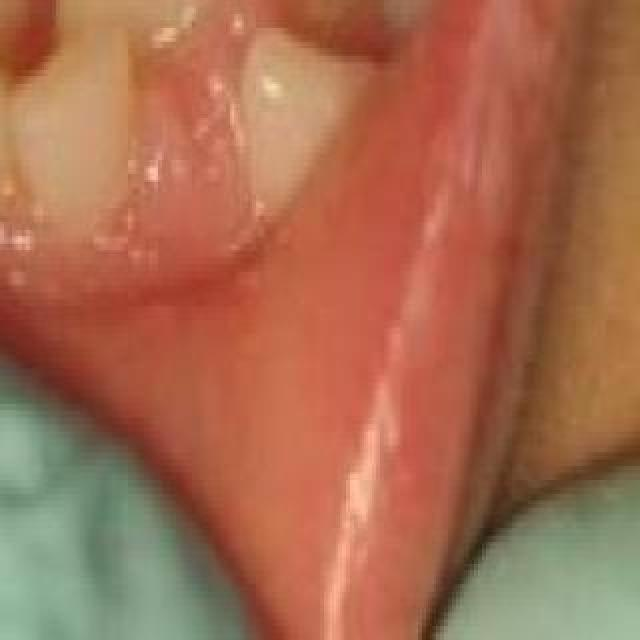maligned: (220, 25, 374, 209), (7, 24, 139, 224), (44, 0, 192, 40), (0, 0, 50, 36), (220, 0, 396, 10), (0, 0, 6, 204)
